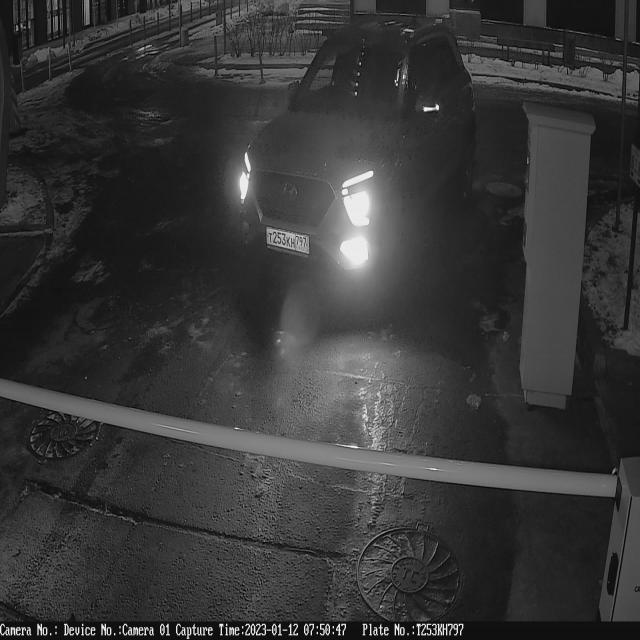car-plate-numbers: (263, 224, 312, 262)
